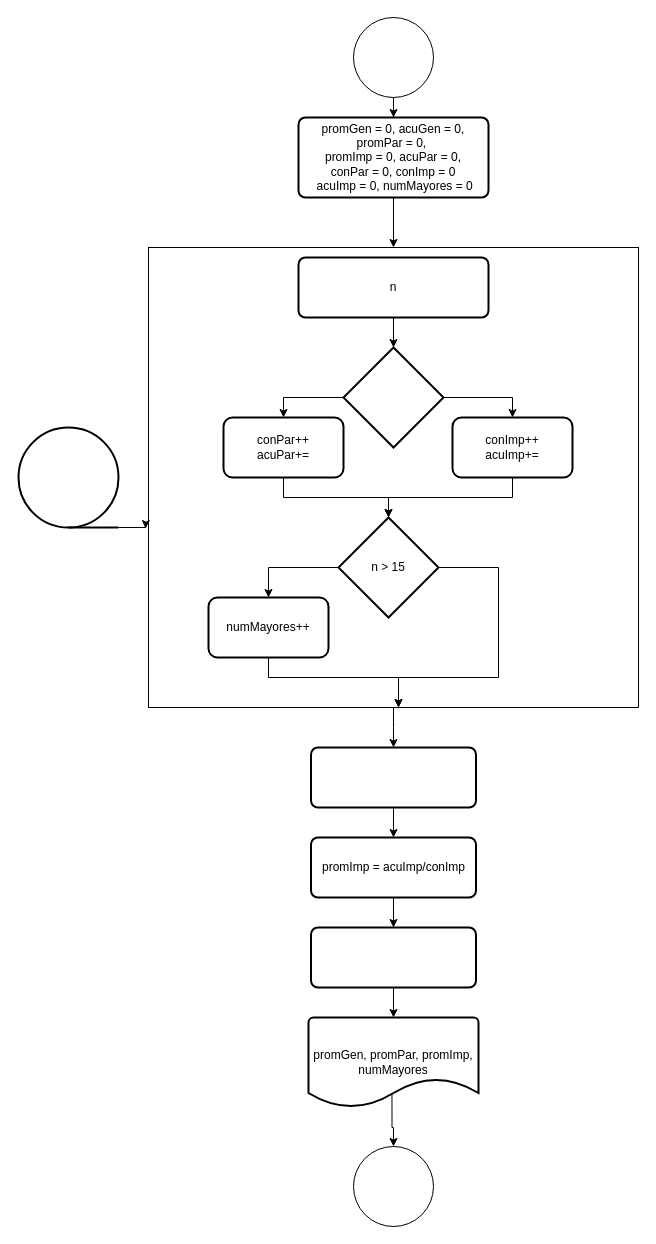
This 656x1244 diagram has some shape labels left out. The box of each missing label's shape, as (x1, y1, x2, y2) in pixels:
i < 8: (17, 426, 119, 528)
n%2==0: (342, 346, 444, 448)
promGen = (acuPar + acuImp) / (conPar + conImp): (310, 926, 476, 988)
promPar = acuPar/conPar: (310, 746, 476, 808)
